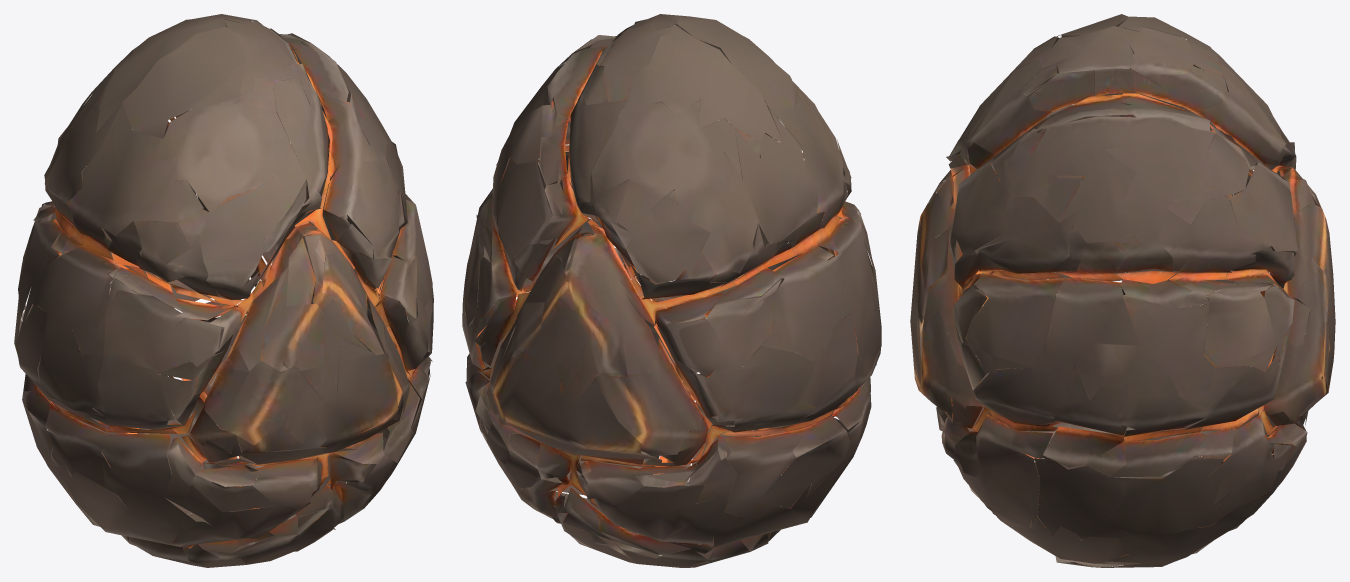
File: stone.glb
3 views of the same model, side by side, from view 1: azimuth 30°, elevation 25°; view 2: azimuth 150°, elevation 25°; view 3: azimuth 270°, elevation 25° (orthographic).
Parts seen in each view (by area): view 1: Cap, Cup; view 2: Cap, Cup; view 3: Cap, Cup.
Boxes of the visible parts, bbox=[...] form: Cap: bbox=[18, 14, 432, 374]; Cup: bbox=[14, 202, 433, 567]; Cap: bbox=[464, 14, 877, 374]; Cup: bbox=[462, 204, 881, 567]; Cap: bbox=[913, 14, 1333, 376]; Cup: bbox=[910, 208, 1335, 567].
Size of the model in its own units: 0.7402 by 1 by 0.7376.
1 material, 1 textured.
